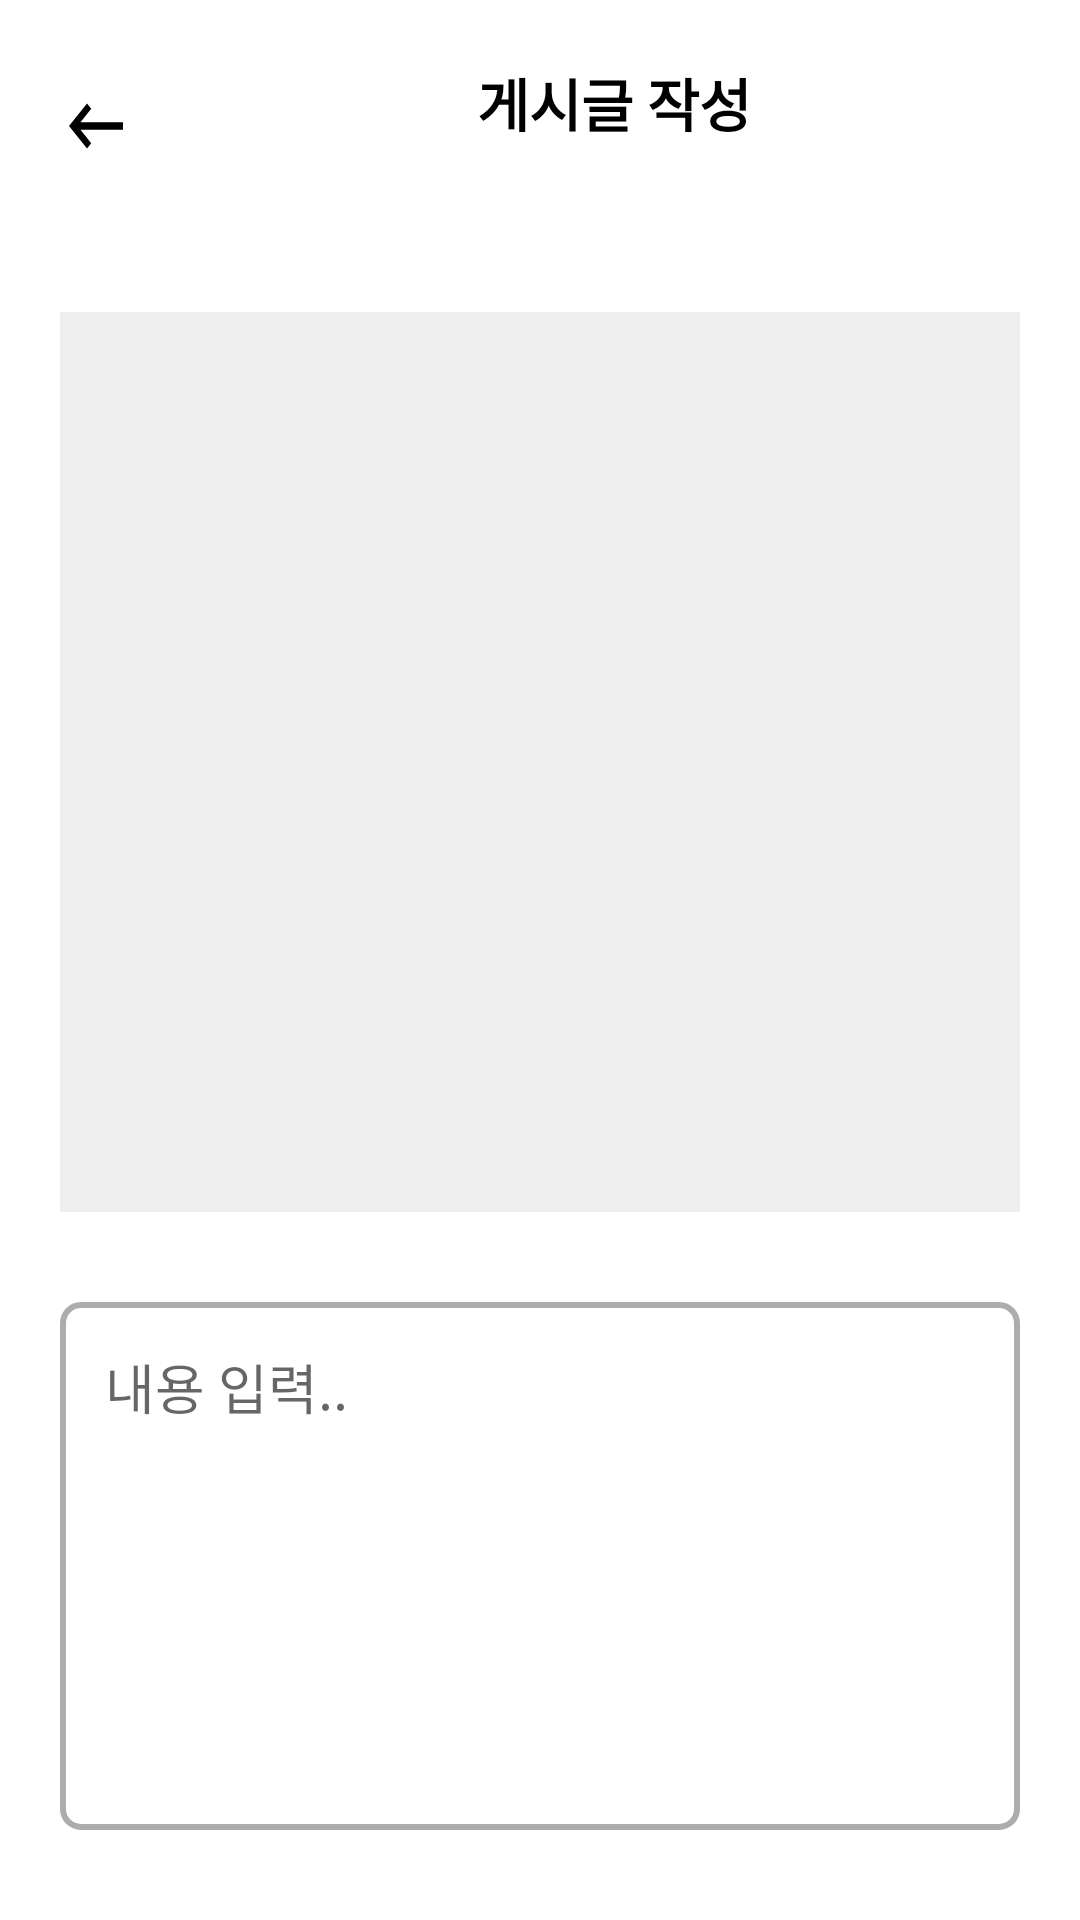

Point at icon controls on the screen. Image size 1080*1920, points as (x,y).
keyboard backspace: (96,126)
